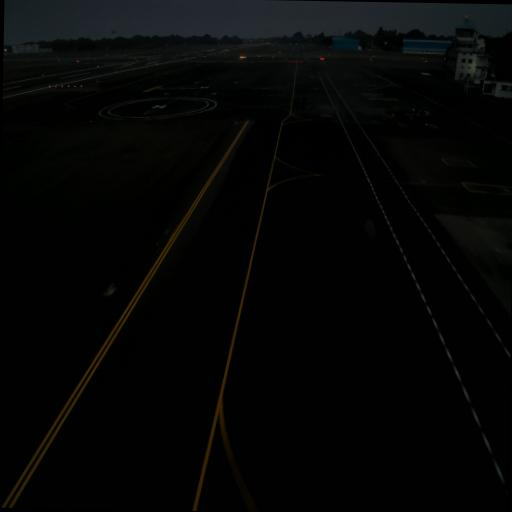on: (108, 280, 114, 291)
